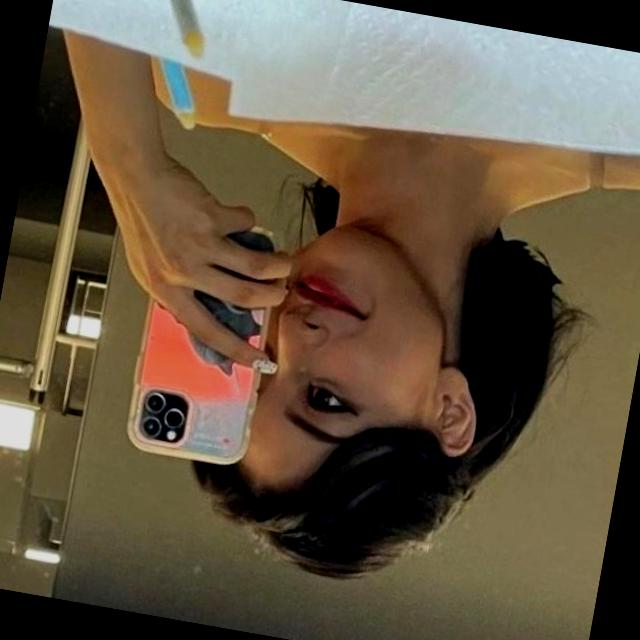lens_back: (140, 388, 168, 416), (160, 406, 185, 430), (138, 414, 162, 439)
phone: (116, 210, 284, 469)
